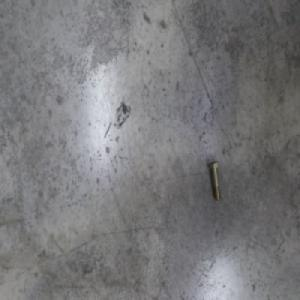Bolt: (206, 158, 219, 200)
